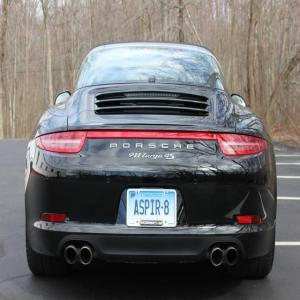Plate: (127, 189, 177, 227)
